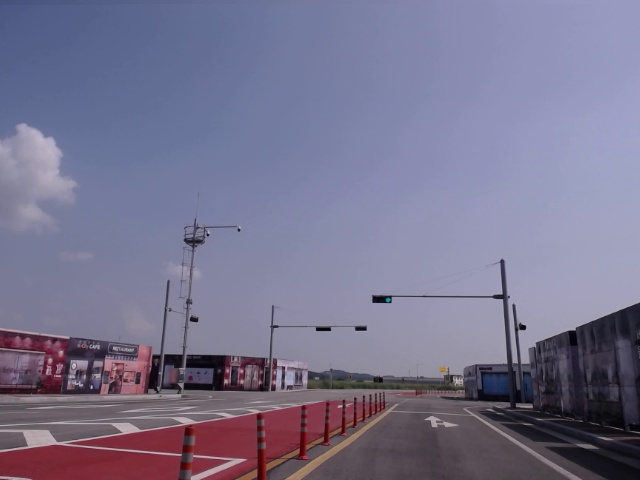green_3: (372, 295, 392, 303)
